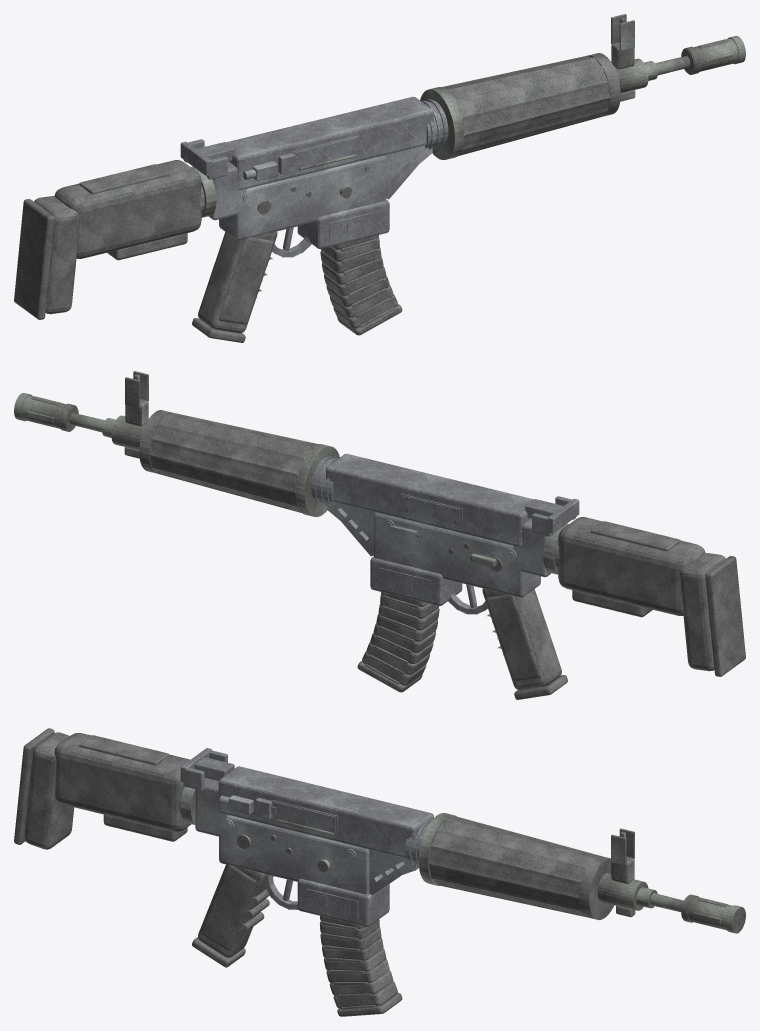
The model's file is m4a1_detailed_v3.glb.
3 renders of one model, top to bottom at view 1: azimuth 30°, elevation 25°; view 2: azimuth 150°, elevation 25°; view 3: azimuth 330°, elevation 25°, orthographic.
Parts seen in each view (by area): view 1: polymer_parts, receiver_unified, steel_parts; view 2: polymer_parts, receiver_unified, steel_parts; view 3: polymer_parts, receiver_unified, steel_parts.
Part boxes in pixels (x1,y1,x2,y2): polymer_parts: [14, 53, 620, 342]; receiver_unified: [180, 96, 448, 257]; steel_parts: [191, 14, 745, 217]; polymer_parts: [139, 410, 745, 699]; receiver_unified: [311, 453, 579, 614]; steel_parts: [14, 371, 568, 574]; polymer_parts: [14, 728, 614, 1016]; receiver_unified: [177, 748, 433, 926]; steel_parts: [180, 786, 745, 933].
Bounding box in the file's own units: 0.8302 × 0.2714 × 0.073.
Materials: 3 (3 with a texture image).
